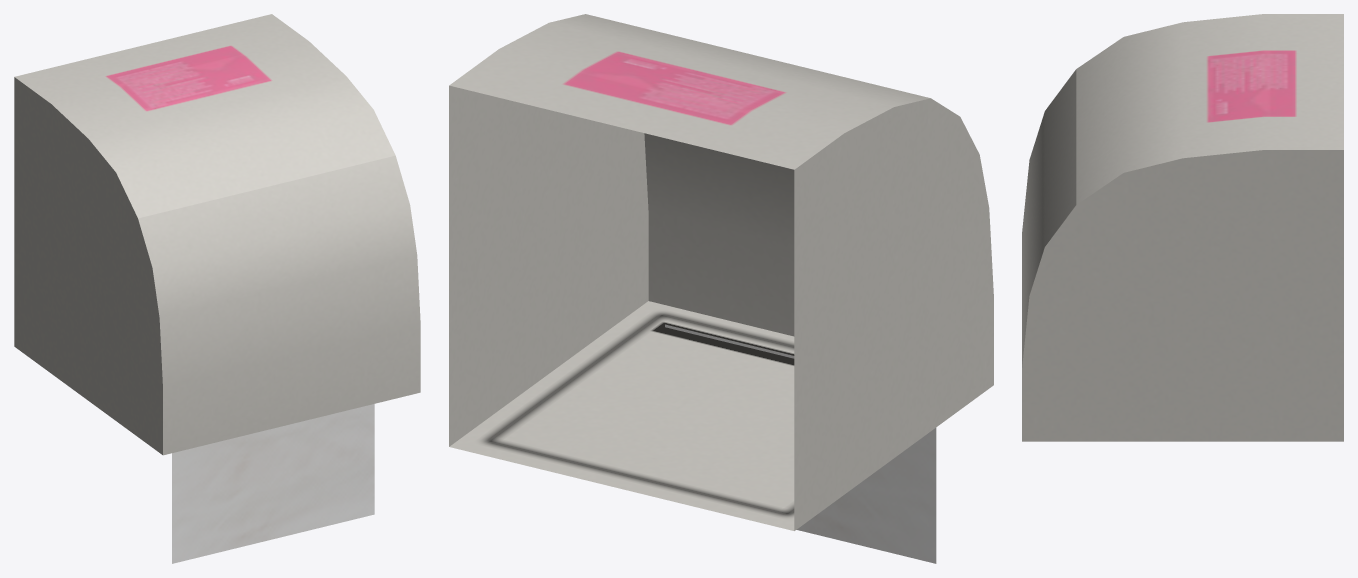
The model's file is tissue holder.FBX.
3 views of the same model, side by side, from view 1: azimuth 30°, elevation 25°; view 2: azimuth 150°, elevation 25°; view 3: azimuth 270°, elevation 25° (orthographic). The views are drawn at different scales.
Parts seen in each view (by area): view 1: tissue holder; view 2: tissue holder; view 3: tissue holder.
Part boxes in pixels (x1=…): tissue holder: x1=14, y1=14, x2=420, y2=563; tissue holder: x1=449, y1=14, x2=993, y2=563; tissue holder: x1=1022, y1=14, x2=1343, y2=441.
Size of the model in its own units: 8 by 8 by 11.78.
